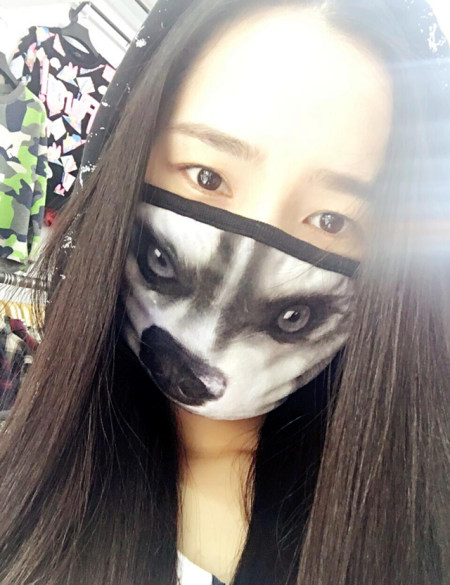face_mask: (139, 30, 380, 440)
